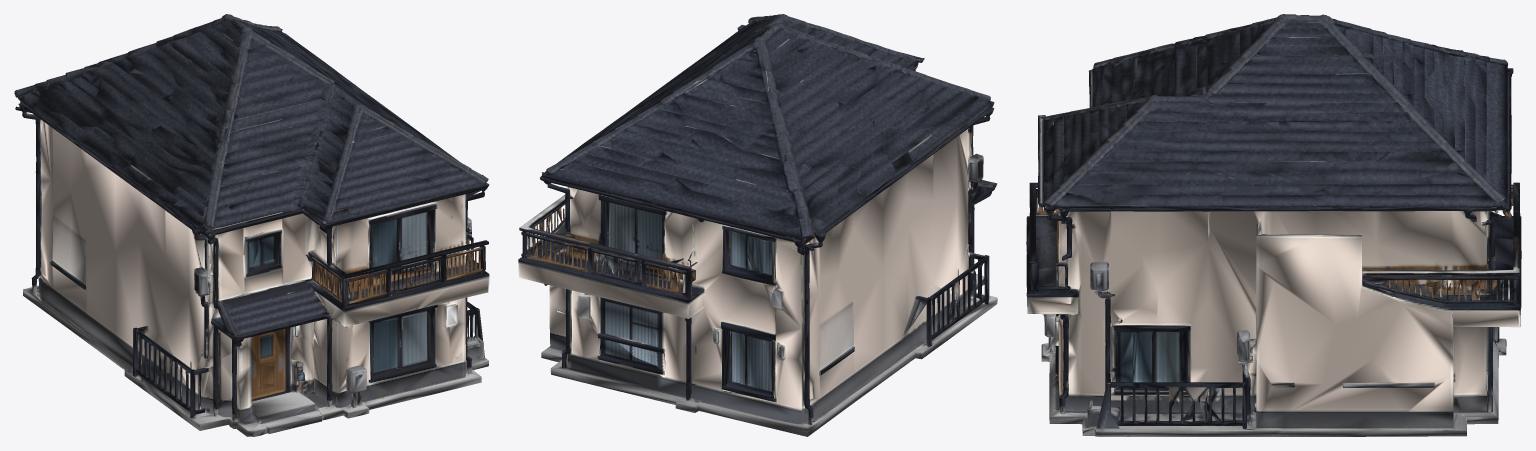
File: BLD_012_two_story_house_a.glb
3 renders of one model, left to right at view 1: azimuth 30°, elevation 25°; view 2: azimuth 150°, elevation 25°; view 3: azimuth 270°, elevation 25°, orthographic. The views are drawn at different scales.
Parts seen in each view (by area): view 1: Mesh_0; view 2: Mesh_0; view 3: Mesh_0.
Boxes of the visible parts, x1,y1,x2,y2 form: Mesh_0: [14, 14, 489, 436]; Mesh_0: [518, 14, 997, 436]; Mesh_0: [1026, 14, 1521, 436].
Size of the model in its own units: 6.85 by 7 by 9.23.
Materials: 1 (1 with a texture image).
